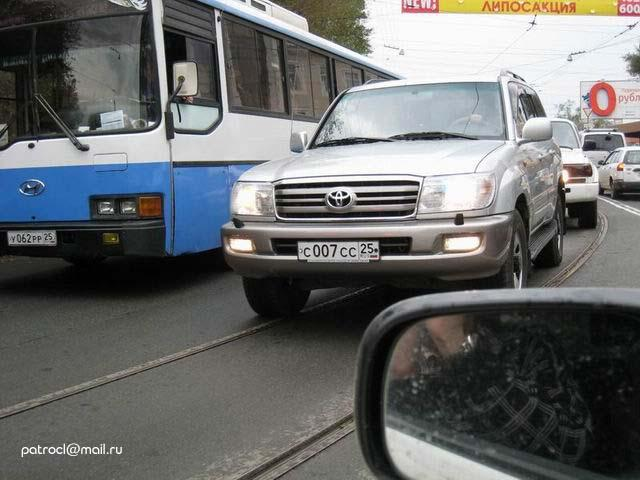license-plateSW: (298, 241, 379, 259), (8, 232, 55, 244)
